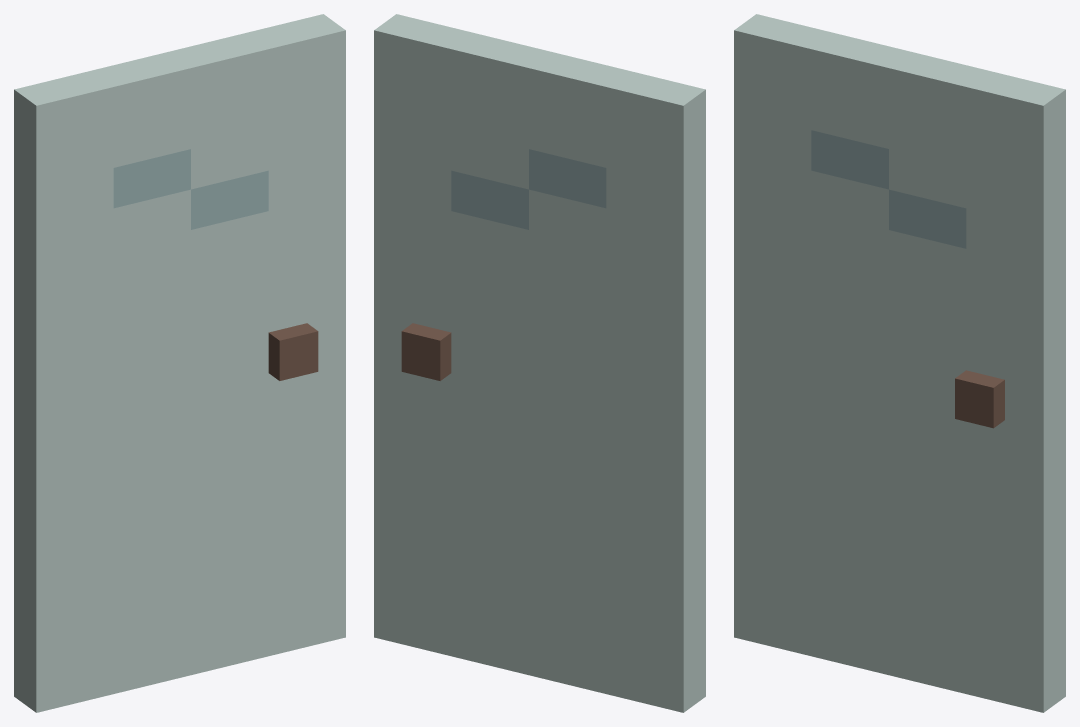
File: Generic Door.glb
3 views of the same model, side by side, from view 1: azimuth 30°, elevation 25°; view 2: azimuth 150°, elevation 25°; view 3: azimuth 330°, elevation 25° (orthographic).
Parts seen in each view (by area): view 1: generated(Clone); view 2: generated(Clone); view 3: generated(Clone).
Part boxes in pixels (<box>): generated(Clone): <box>14,14,345,712</box>; generated(Clone): <box>374,14,705,712</box>; generated(Clone): <box>734,14,1065,712</box>.
Bounding box in the file's own units: 8 × 15 × 2.
1 material, 1 textured.
